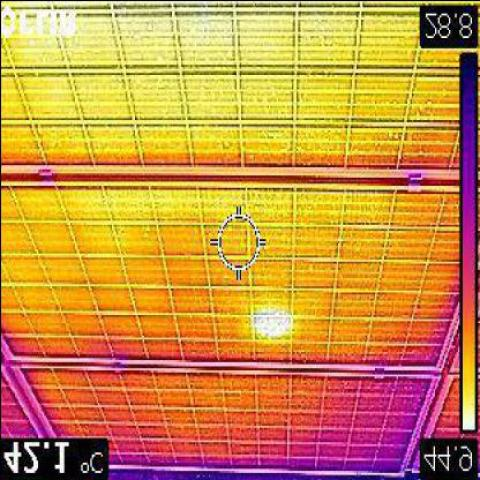fault: (253, 308, 292, 334)
